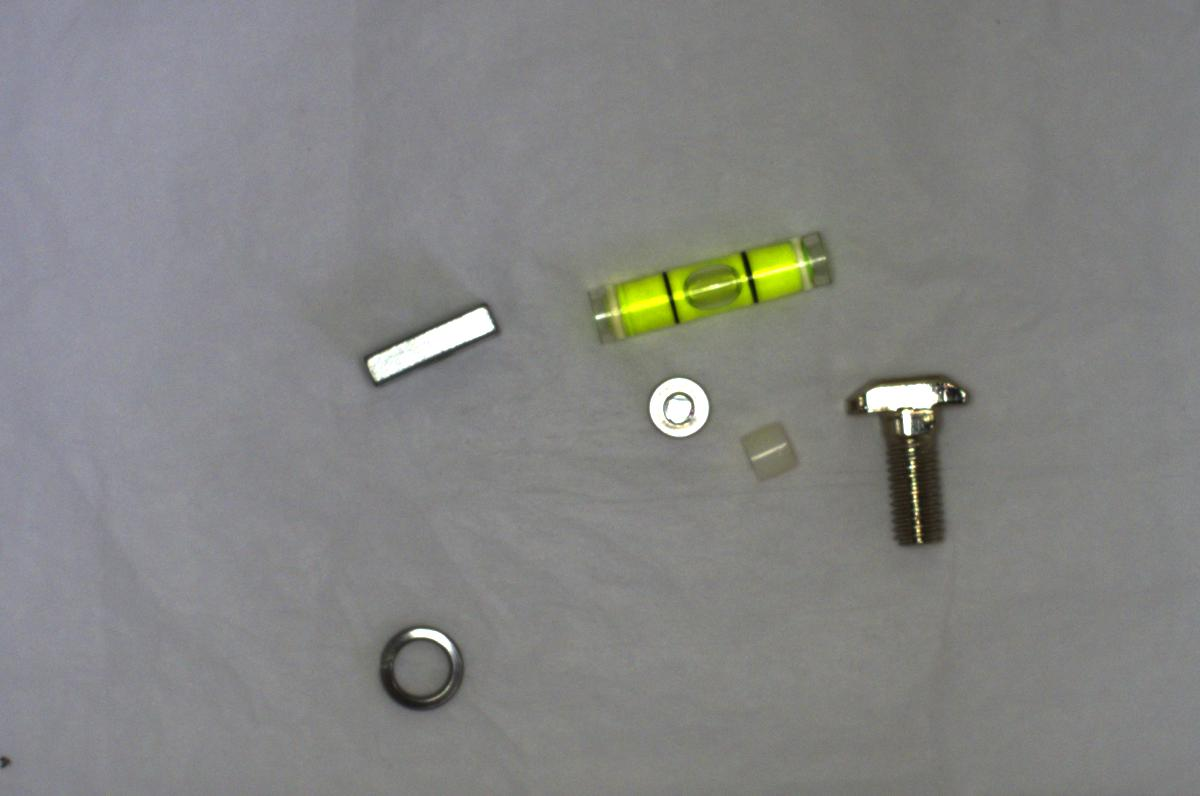Horizontal bubble: (581, 227, 832, 348)
Plastic cushion pillar: (732, 414, 808, 483)
Rectangular nut: (357, 296, 504, 393)
Round head screw: (637, 372, 718, 443)
Spring washer: (373, 619, 472, 713)
T-shaped screw: (842, 366, 980, 550)
